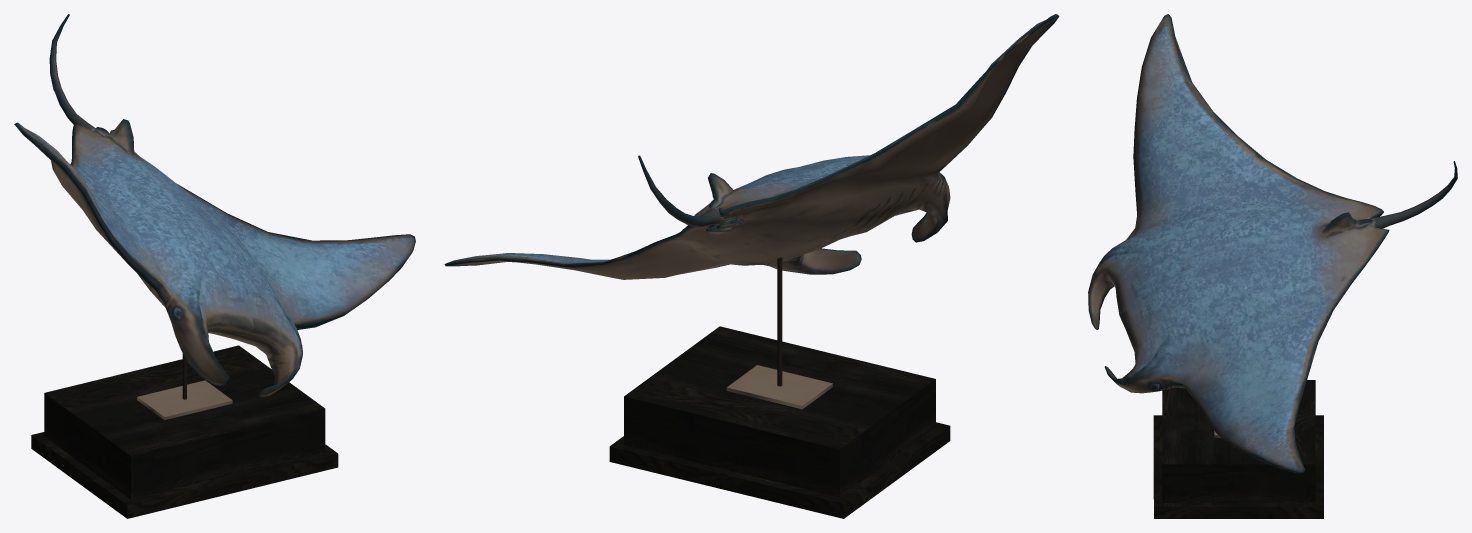
Rendered from bronze_ray_statue.glb.
3 views of the same model, side by side, from view 1: azimuth 30°, elevation 25°; view 2: azimuth 150°, elevation 25°; view 3: azimuth 270°, elevation 25° (orthographic). The views are drawn at different scales.
Visible parts, largest first — view 1: bronze_ray_statue; view 2: bronze_ray_statue; view 3: bronze_ray_statue.
Boxes of the visible parts, left/top/right/bottom form: bronze_ray_statue: left=14, top=14, right=415, bottom=518; bronze_ray_statue: left=444, top=14, right=1059, bottom=518; bronze_ray_statue: left=1088, top=14, right=1457, bottom=518.
Size of the model in its own units: 0.7075 by 0.5897 by 0.5355.
1 material, 1 textured.
